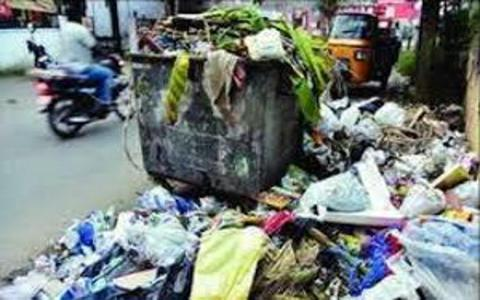overflowing garbage: (135, 8, 344, 294)
